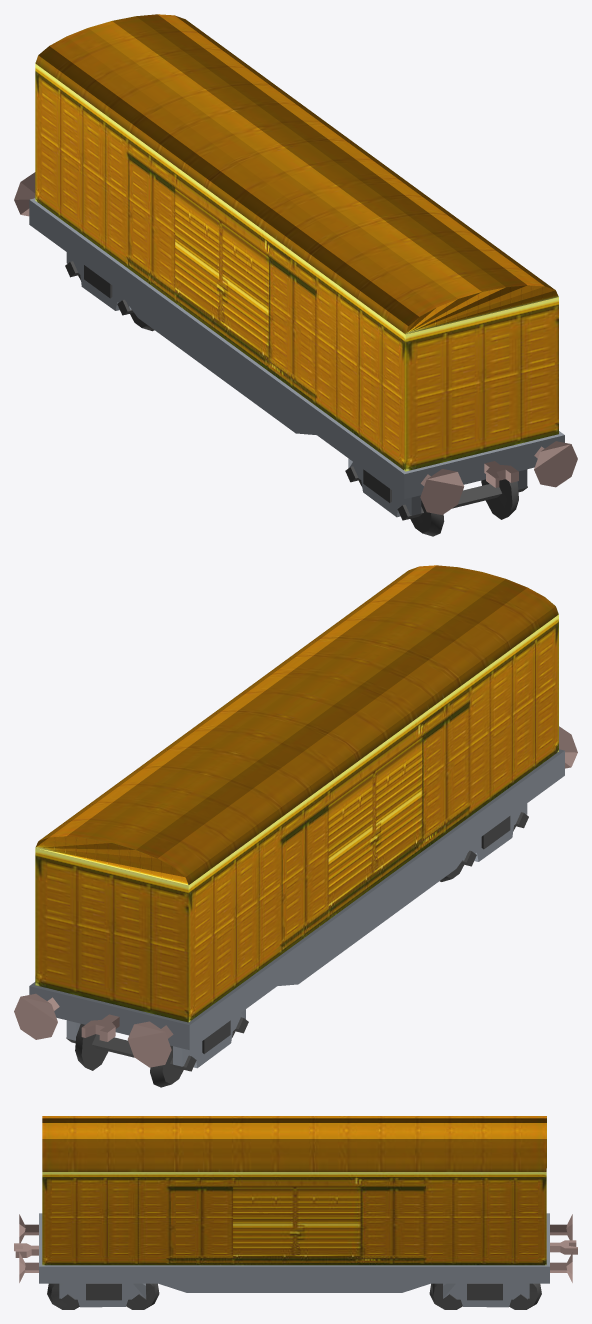
The model's file is boxcargold.dae.
3 renders of one model, top to bottom at view 1: azimuth 30°, elevation 25°; view 2: azimuth 150°, elevation 25°; view 3: azimuth 270°, elevation 25°, orthographic. The views are drawn at different scales.
Parts seen in each view (by area): view 1: 9.0.242.0_Pts_Material_Surf, 9.0.242.0_Pts_Material__4__Surf, 9.0.242.0_Pts_Material__2__Surf, 9.0.242.0_Pts_Material__3__Surf; view 2: 9.0.242.0_Pts_Material_Surf, 9.0.242.0_Pts_Material__4__Surf, 9.0.242.0_Pts_Material__2__Surf, 9.0.242.0_Pts_Material__3__Surf; view 3: 9.0.242.0_Pts_Material_Surf, 9.0.242.0_Pts_Material__4__Surf, 9.0.242.0_Pts_Material__3__Surf, 9.0.242.0_Pts_Material__2__Surf.
Boxes of the visible parts, left/top/right/bottom form: 9.0.242.0_Pts_Material_Surf: left=35, top=14, right=558, bottom=471; 9.0.242.0_Pts_Material__4__Surf: left=29, top=198, right=564, bottom=517; 9.0.242.0_Pts_Material__2__Surf: left=14, top=172, right=577, bottom=514; 9.0.242.0_Pts_Material__3__Surf: left=65, top=261, right=527, bottom=536; 9.0.242.0_Pts_Material_Surf: left=35, top=565, right=558, bottom=1022; 9.0.242.0_Pts_Material__4__Surf: left=29, top=749, right=564, bottom=1068; 9.0.242.0_Pts_Material__2__Surf: left=14, top=726, right=577, bottom=1067; 9.0.242.0_Pts_Material__3__Surf: left=66, top=812, right=528, bottom=1087; 9.0.242.0_Pts_Material_Surf: left=42, top=1116, right=546, bottom=1265; 9.0.242.0_Pts_Material__4__Surf: left=39, top=1213, right=549, bottom=1307; 9.0.242.0_Pts_Material__3__Surf: left=47, top=1283, right=541, bottom=1309; 9.0.242.0_Pts_Material__2__Surf: left=14, top=1214, right=577, bottom=1282.
Size of the model in its own units: 3.21 by 4.72 by 14.32.
4 materials, 1 textured.
